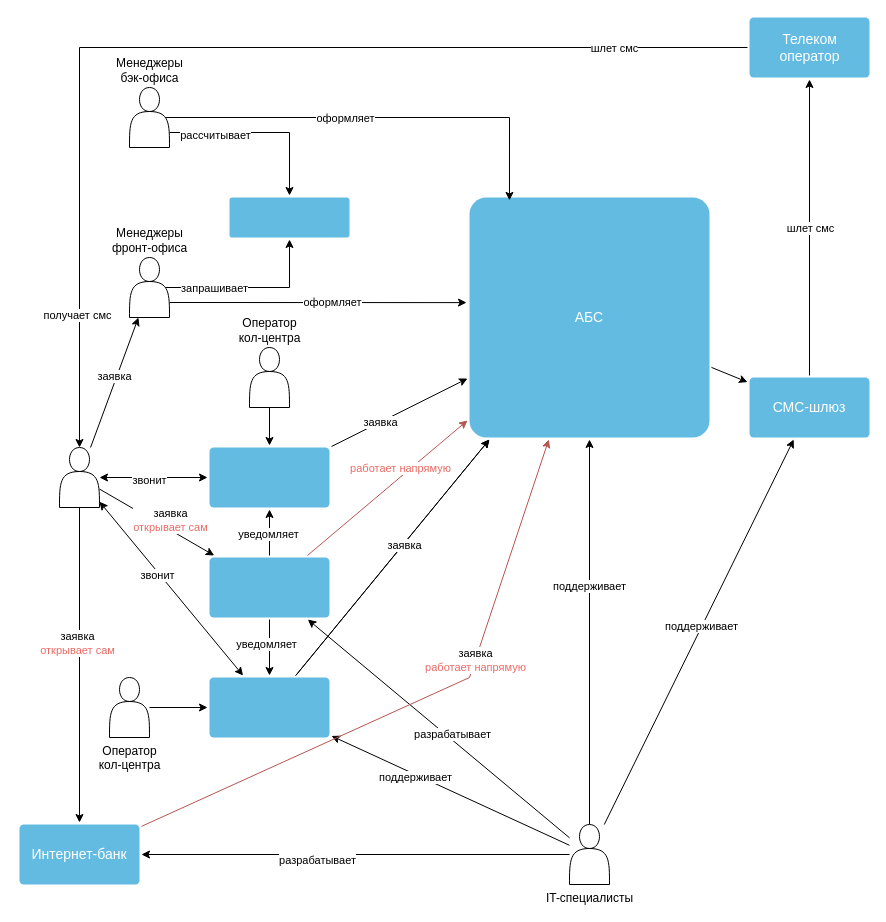
This 886x922 diagram has some shape labels left out. Here are the shapes that lost their labels. From the top down, the box of each, then its label:
(229, 197, 349, 237): Почта
(58, 446, 100, 508): Клиент
(209, 447, 329, 507): Система партнерского кол-центра
(209, 557, 329, 617): Сайт
(209, 677, 329, 737): Система кол-центра
